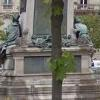Statue: (2, 5, 29, 52)
